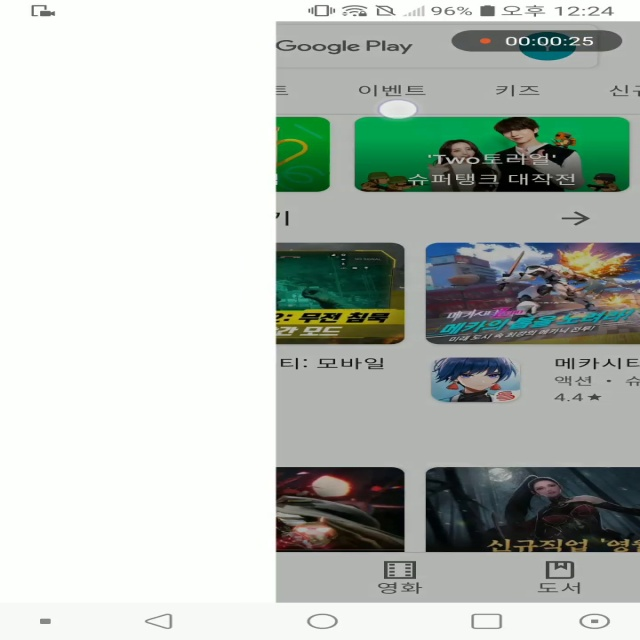Cursor: (376, 99, 421, 121)
